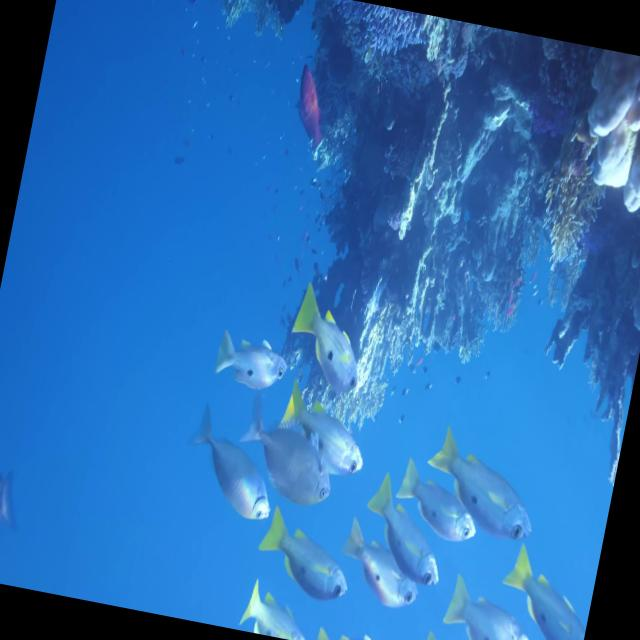fish: (428, 432, 550, 544), (182, 402, 290, 524), (233, 396, 347, 511), (256, 512, 362, 611), (358, 488, 453, 591), (283, 292, 373, 398), (278, 386, 375, 478), (496, 553, 597, 640), (338, 524, 432, 612), (392, 462, 486, 544), (438, 581, 543, 640), (214, 328, 292, 394)
